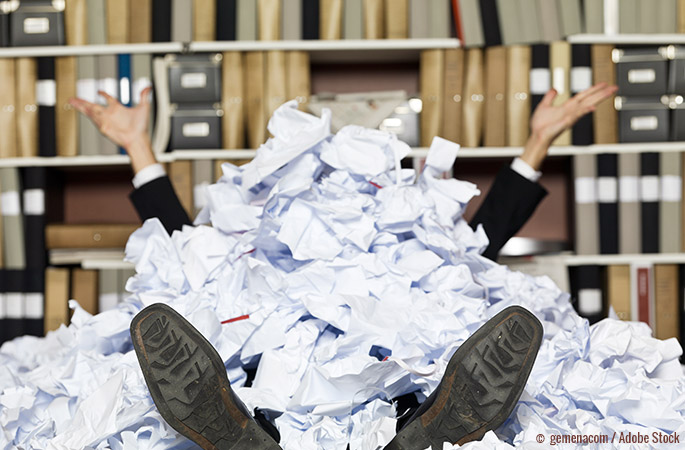paper: (205, 69, 340, 196), (105, 180, 205, 306), (177, 137, 277, 261), (312, 75, 416, 188), (4, 293, 142, 377), (577, 282, 685, 386), (333, 369, 402, 450), (254, 394, 344, 450), (402, 118, 475, 186)
